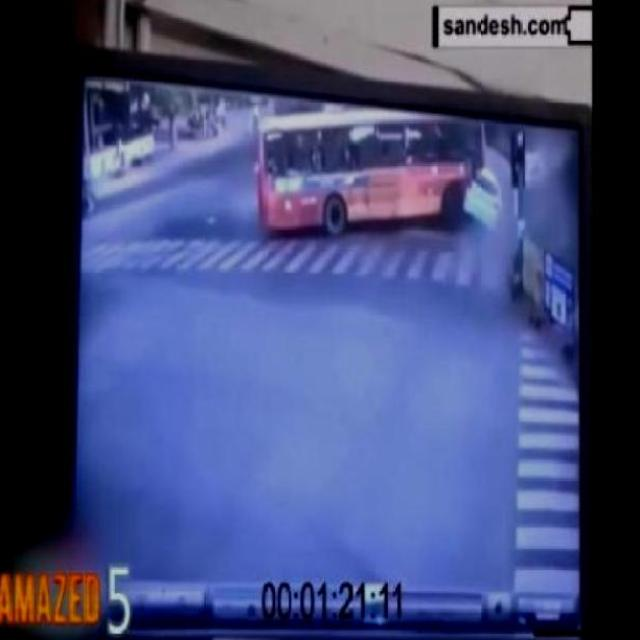accident: (447, 124, 505, 222)
